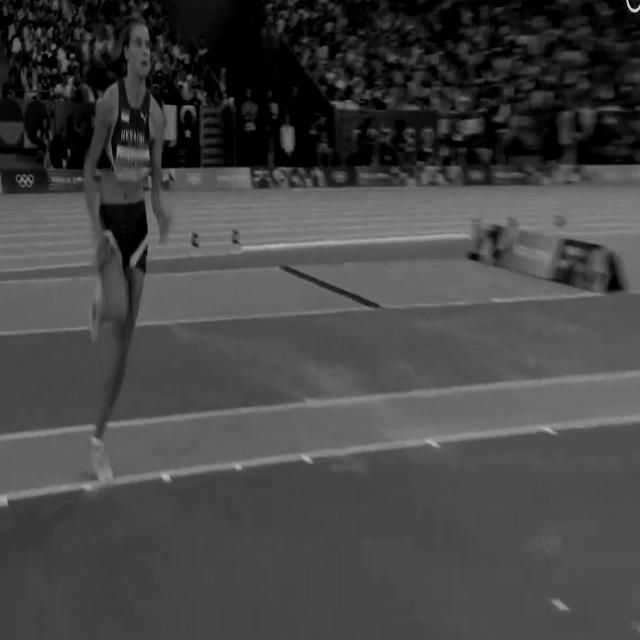run: (82, 17, 174, 480)
